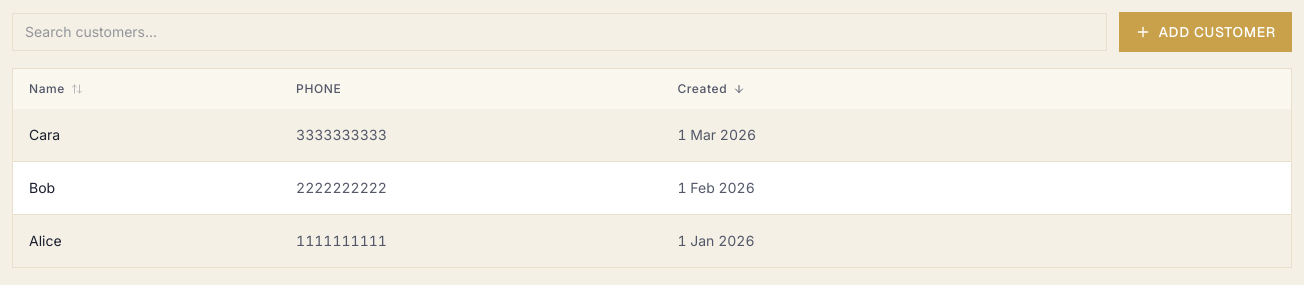
Test case: CustomersTable › search › filters case-insensitively
In the search field with placeholder "Search customers…": (559, 32) top-left (12, 13), bottom-right (1107, 51), type "ALICE"
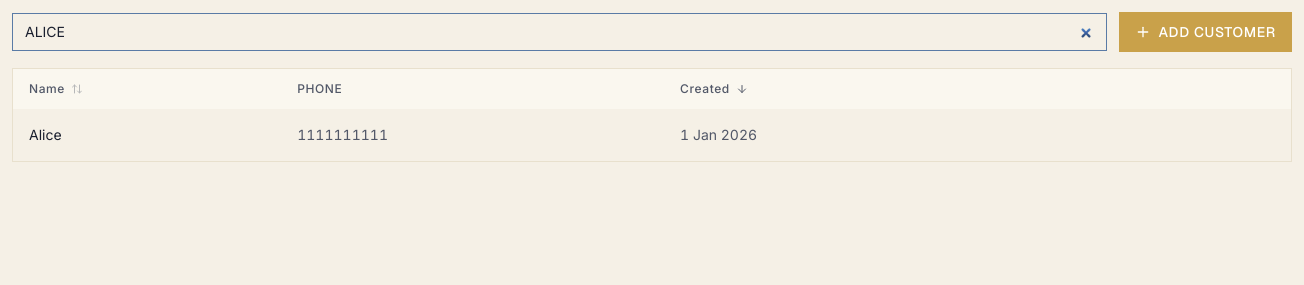
Expected: the text "Alice" is shown, top-left (29, 126), bottom-right (62, 143)
Expected: the text "Bob" is gone
